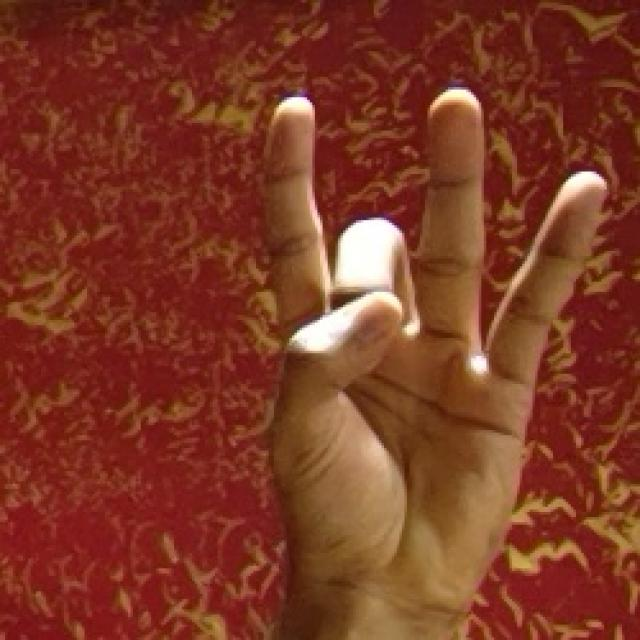Numeric-8: (253, 80, 608, 576)
